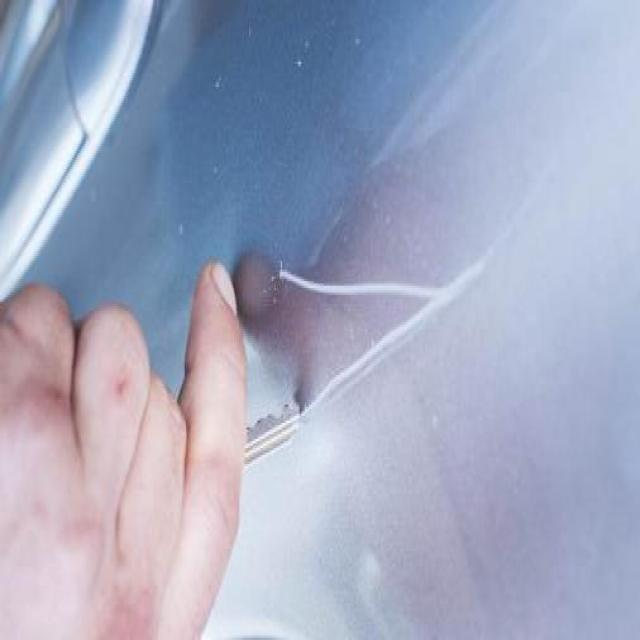scratch: (270, 257, 450, 312), (308, 327, 386, 448)
